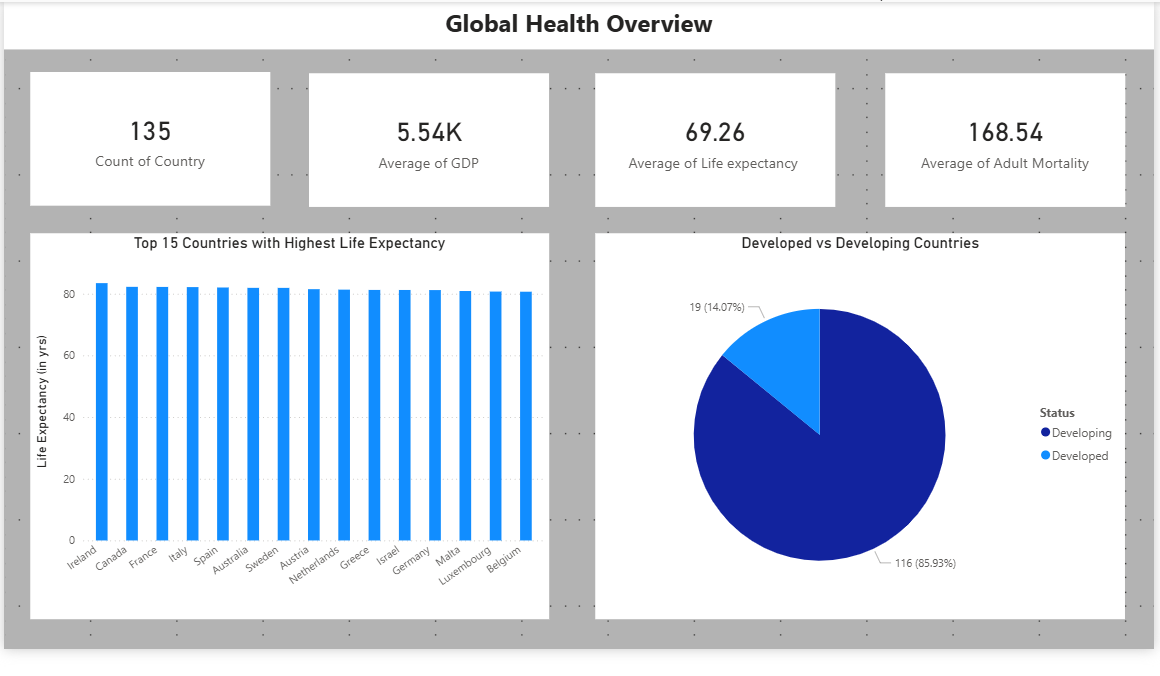

What the dashboard file says about the page in this screenshot:
{"tool":"powerbi","page":{"name":"Page 1","canvas":[1280,720],"ordinal":0},"visuals":[{"type":"textbox","box":[0,0,1280,52.9],"z":0},{"type":"card","fields":{"Values":["Avg(Life Expectancy Data.Life expectancy )"]},"box":[658.1,79.3,267.1,148.9],"z":1000},{"type":"card","fields":{"Values":["Avg(Life Expectancy Data.GDP)"]},"box":[339.5,79.3,267.1,148.9],"z":2000},{"type":"card","fields":{"Values":["Count(Life Expectancy Data.Country)"]},"box":[29.2,77.9,267.1,148.9],"z":3000},{"type":"card","fields":{"Values":["Avg(Life Expectancy Data.Adult Mortality)"]},"box":[980.9,79.3,267.1,148.9],"z":4000},{"type":"pieChart","title":"Developed vs Developing Countries ","fields":{"Category":["Life Expectancy Data.Status"],"Y":["Count(Life Expectancy Data.Country)"]},"box":[658.1,257.4,589.9,429.9],"z":5000},{"type":"ribbonChart","title":"Top 15 Countries with Highest Life Expectancy","fields":{"Category":["Life Expectancy Data.Country"],"Y":["Avg(Life Expectancy Data.Life expectancy )"]},"box":[29.2,257.4,577.4,429.9],"z":6000}]}

Visuals, with their boxes on the page's 1280x720 design canvas (x1, y1, x2, y2). These are canvas units, not pixel positions in the 1160x676 screenshot, which may show the page scaled, cropped or inside an application window:
textbox: [0, 0, 1280, 53]
card - Avg(Life Expectancy Data.Life expectancy ): [658, 79, 925, 228]
card - Avg(Life Expectancy Data.GDP): [340, 79, 607, 228]
card - Count(Life Expectancy Data.Country): [29, 78, 296, 227]
card - Avg(Life Expectancy Data.Adult Mortality): [981, 79, 1248, 228]
"Developed vs Developing Countries " pieChart: [658, 257, 1248, 687]
"Top 15 Countries with Highest Life Expectancy" ribbonChart: [29, 257, 607, 687]
